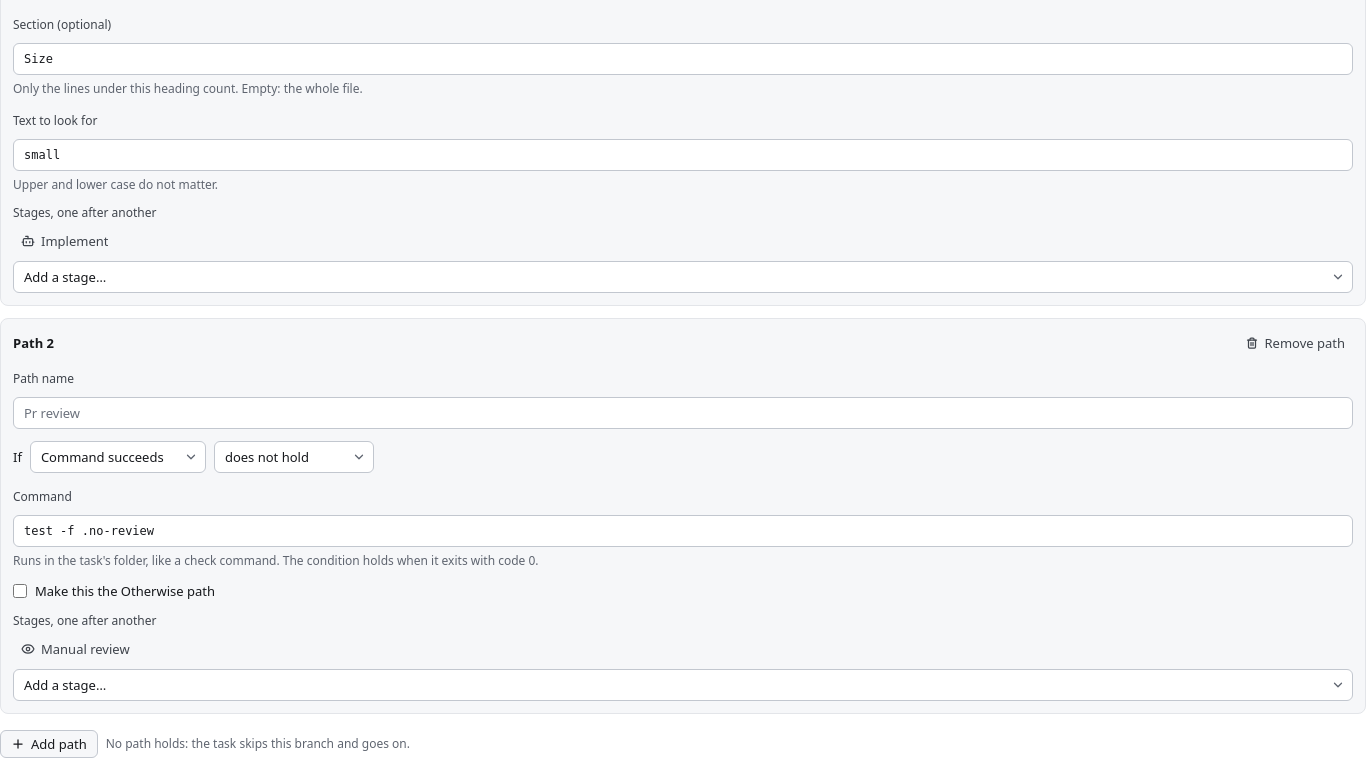
Test: BranchDetails › says a new path has no stage yet
(page scrolled)
Click the button "Add path" at (49, 744), box [0,730,98,757]
(page scrolled)
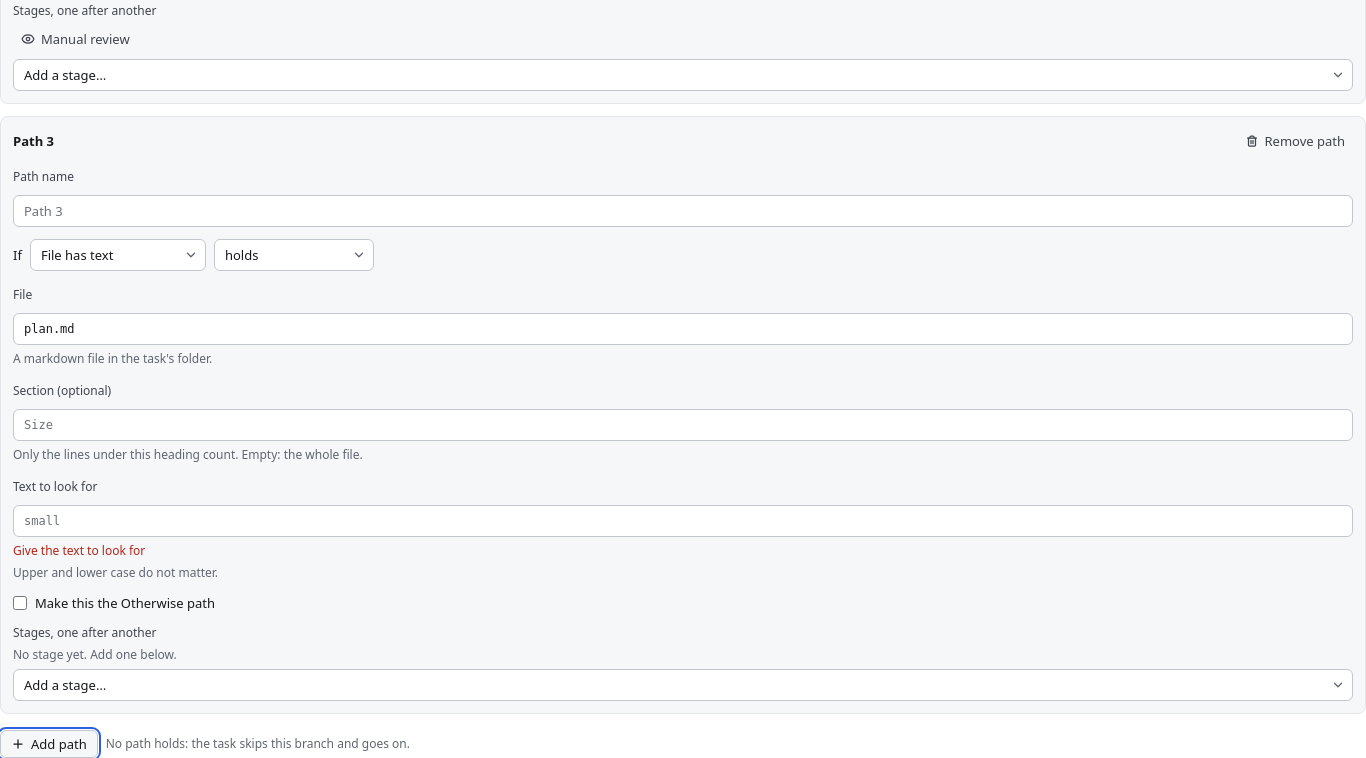
Expected: the text "No stage yet. Add one below." is shown, [13,646,177,663]
